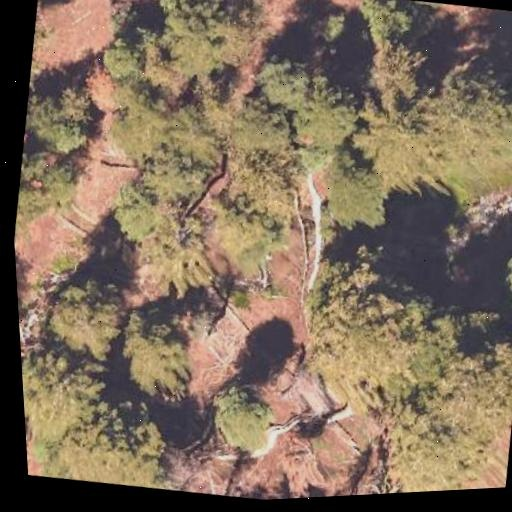tree-top: (278, 242, 460, 406), (367, 326, 512, 493), (240, 38, 377, 160), (97, 294, 207, 414), (32, 256, 140, 373), (69, 394, 182, 495), (145, 0, 256, 97), (215, 132, 317, 234), (19, 325, 103, 447), (301, 144, 403, 242), (195, 370, 292, 467), (348, 31, 442, 115), (8, 130, 79, 241), (19, 75, 109, 158), (432, 53, 512, 143), (125, 133, 212, 212), (95, 171, 176, 244), (340, 0, 426, 59), (84, 21, 150, 84), (153, 0, 262, 20), (496, 222, 512, 321)
